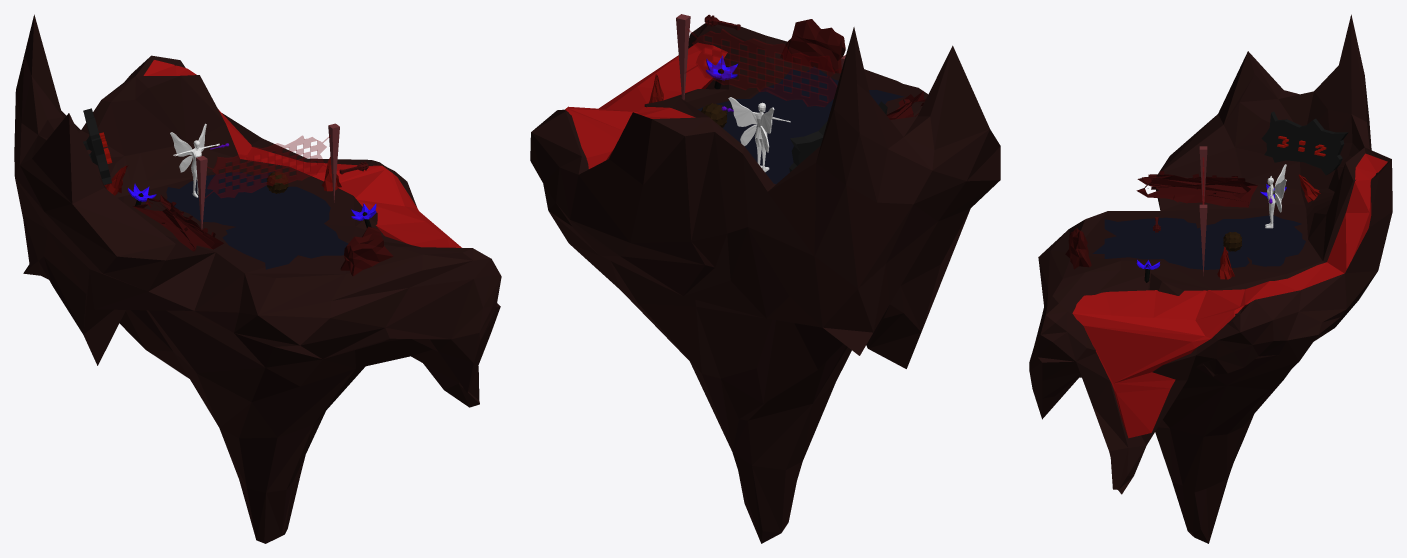
3 views of the same model, side by side, from view 1: azimuth 30°, elevation 25°; view 2: azimuth 150°, elevation 25°; view 3: azimuth 270°, elevation 25° (orthographic). The views are drawn at different scales.
Visible parts, largest first — view 1: Ground, Field, Lava, Net, Bench, Rock, Scoreboard, NetStand; view 2: Ground, Field, Lava, Net, Rock, Wings, Scoreboard, NetStand; view 3: Ground, Lava, Field, Scoreboard, Bench, Rock, NetStand.
Boxes of the visible parts, <box> form: Ground: <box>14,14,501,543</box>; Field: <box>166,172,348,269</box>; Lava: <box>143,60,461,247</box>; Net: <box>205,135,332,198</box>; Bench: <box>133,195,223,251</box>; Rock: <box>340,226,393,276</box>; Scoreboard: <box>83,108,112,184</box>; NetStand: <box>196,123,339,229</box>; Ground: <box>530,23,1000,543</box>; Field: <box>698,66,903,184</box>; Lava: <box>565,42,727,168</box>; Net: <box>685,29,841,106</box>; Rock: <box>780,19,845,73</box>; Wings: <box>728,97,774,152</box>; Scoreboard: <box>789,101,887,171</box>; NetStand: <box>676,14,845,99</box>; Ground: <box>1029,14,1392,543</box>; Lava: <box>1072,153,1387,438</box>; Field: <box>1092,215,1305,269</box>; Scoreboard: <box>1261,111,1348,175</box>; Bench: <box>1136,171,1257,207</box>; Rock: <box>1065,228,1091,269</box>; NetStand: <box>1199,146,1207,275</box>.
Bounding box in the file's own units: 1189 × 1619 × 1154.
